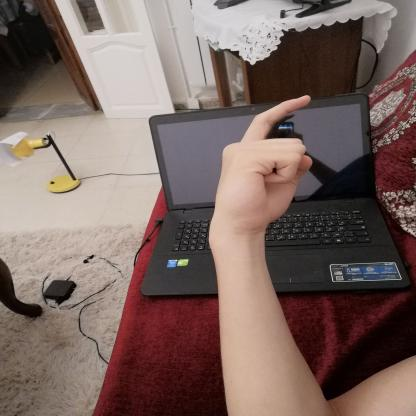RAA: (201, 86, 322, 236)
